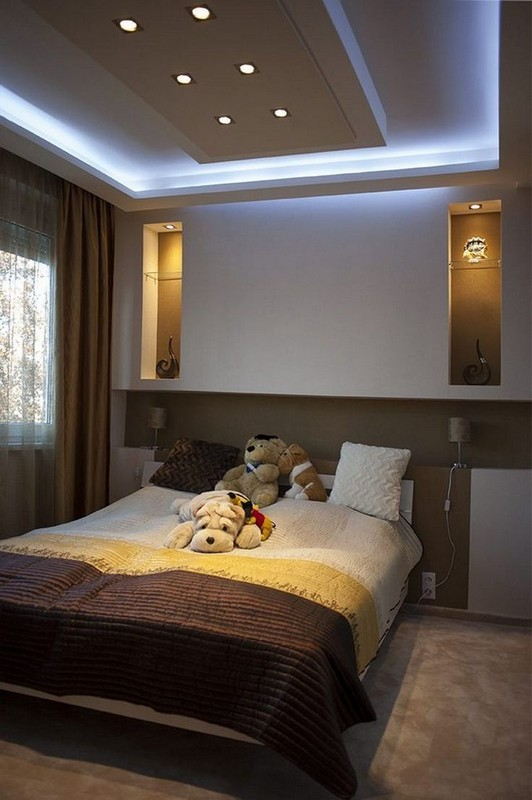bed: (11, 432, 420, 789)
lamp: (448, 417, 471, 467), (147, 406, 168, 448)
